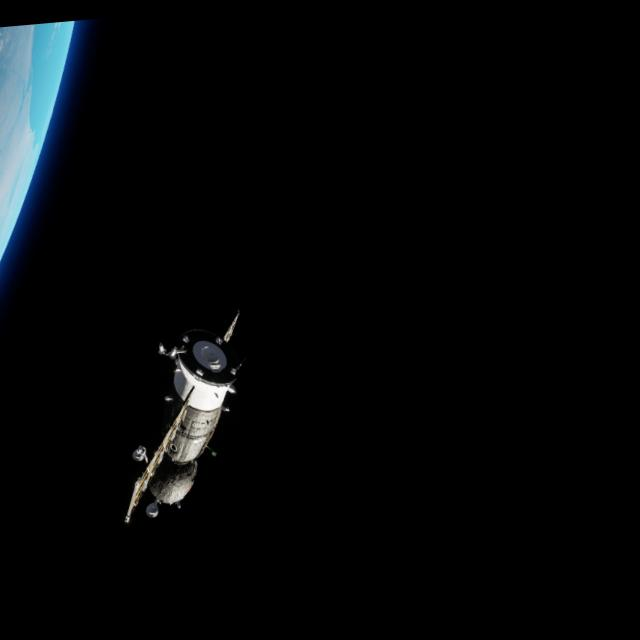Satellites revolving around earth: (104, 306, 260, 527)
